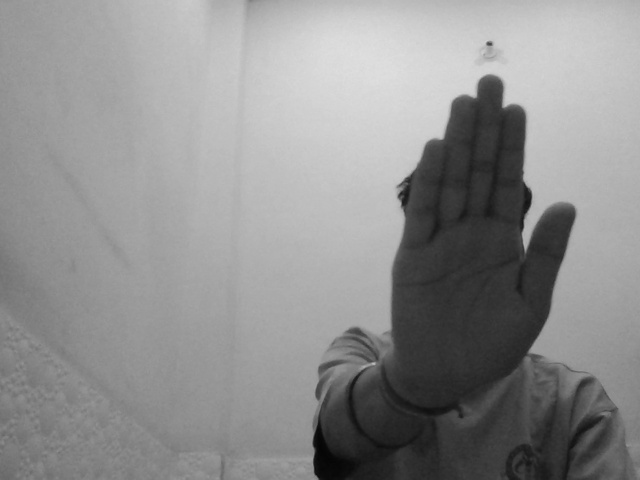Stop: (385, 68, 583, 400)
